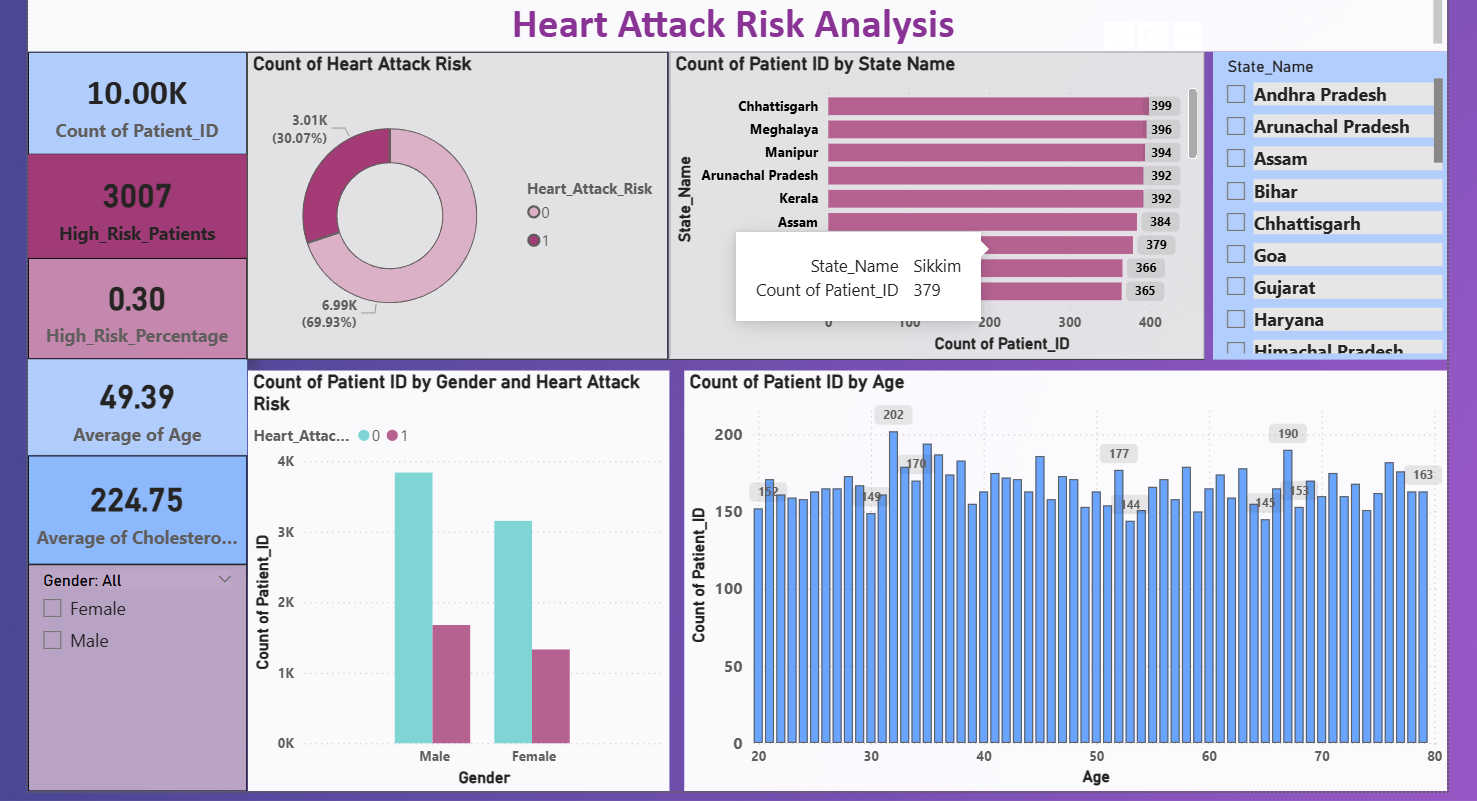

Layout of this report page (visuals, bound fields, positions):
{"tool":"powerbi","page":{"name":"Page 1","canvas":[1280,720],"ordinal":0},"visuals":[{"type":"card","fields":{"Values":["CountNonNull(heart_attack_final.Patient_ID)"]},"box":[0,53,197.2,92.4],"z":0},{"type":"card","fields":{"Values":["heart_attack_final.High_Risk_Patients"]},"box":[0,145.4,197.2,93.6],"z":1000},{"type":"card","fields":{"Values":["heart_attack_final.High_Risk_Percentage"]},"box":[0,238.9,197.2,91.3],"z":2000},{"type":"card","fields":{"Values":["Avg(heart_attack_final.Age)"]},"box":[0,330.2,197.2,86.8],"z":3000},{"type":"card","fields":{"Values":["Avg(heart_attack_final.Cholesterol_Level)"]},"box":[0,417,197.2,98.1],"z":4000},{"type":"donutChart","title":"Count of Heart Attack Risk","fields":{"Category":["heart_attack_final.Heart_Attack_Risk"],"Y":["CountNonNull(heart_attack_final.Patient_ID)"]},"box":[197.2,53,379.8,277.3],"z":5000},{"type":"clusteredColumnChart","title":"Count of Patient ID by Gender and Heart Attack Risk","fields":{"Category":["heart_attack_final.Gender"],"Y":["CountNonNull(heart_attack_final.Patient_ID)"],"Series":["heart_attack_final.Heart_Attack_Risk"]},"box":[198.4,340.4,379.8,379.8],"z":6000},{"type":"clusteredBarChart","title":"Count of Patient ID by State Name","fields":{"Category":["heart_attack_final.State_Name"],"Y":["CountNonNull(heart_attack_final.Patient_ID)"]},"box":[578.2,53,482.4,277.3],"z":7000},{"type":"slicer","fields":{"Values":["heart_attack_final.State_Name"]},"box":[1068.5,53,211.9,277.3],"z":8000},{"type":"slicer","fields":{"Values":["heart_attack_final.Gender"]},"box":[0,515.1,197.2,205.1],"z":9000},{"type":"clusteredColumnChart","title":"Count of Patient ID by Age","fields":{"Category":["heart_attack_final.Age"],"Y":["CountNonNull(heart_attack_final.Patient_ID)"]},"box":[591.7,340.4,688.7,379.8],"z":10000},{"type":"textbox","box":[0,0,1280.4,53],"z":11000}]}

Visuals, with their boxes in screenshot pixels (x1, y1, x2, y2):
card - CountNonNull(heart_attack_final.Patient_ID): region(31, 54, 247, 155)
card - heart_attack_final.High_Risk_Patients: region(31, 155, 247, 258)
card - heart_attack_final.High_Risk_Percentage: region(31, 258, 247, 358)
card - Avg(heart_attack_final.Age): region(31, 358, 247, 453)
card - Avg(heart_attack_final.Cholesterol_Level): region(31, 453, 247, 561)
"Count of Heart Attack Risk" donutChart: region(247, 54, 663, 358)
"Count of Patient ID by Gender and Heart Attack Risk" clusteredColumnChart: region(248, 369, 664, 785)
"Count of Patient ID by State Name" clusteredBarChart: region(664, 54, 1193, 358)
slicer - heart_attack_final.State_Name: region(1202, 54, 1434, 358)
slicer - heart_attack_final.Gender: region(31, 561, 247, 785)
"Count of Patient ID by Age" clusteredColumnChart: region(679, 369, 1434, 785)
textbox: region(31, 0, 1434, 54)
